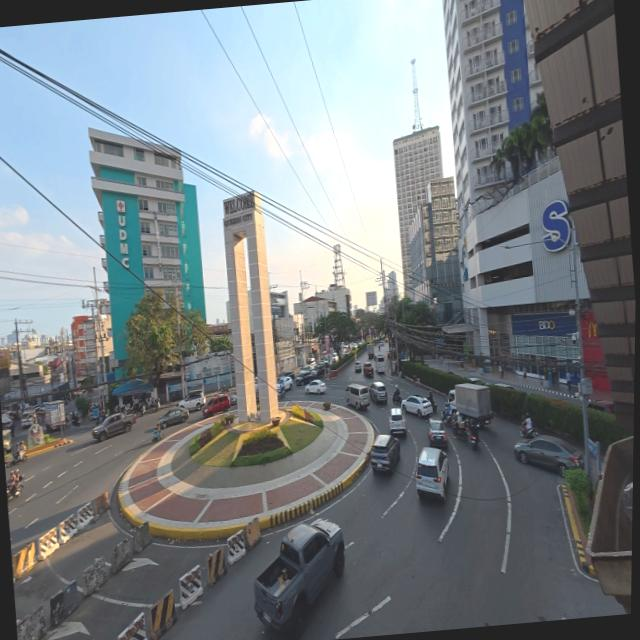bus: (377, 353, 386, 373)
car: (514, 436, 583, 475), (415, 448, 448, 501), (371, 435, 400, 471), (401, 395, 432, 417), (202, 394, 231, 417), (160, 408, 188, 429), (429, 419, 447, 449), (178, 391, 205, 411), (390, 408, 407, 435), (369, 381, 388, 402), (588, 400, 615, 414), (306, 380, 326, 394), (277, 376, 293, 391), (295, 371, 312, 385), (311, 363, 326, 378), (363, 362, 374, 377), (494, 383, 516, 390), (468, 377, 486, 385), (280, 371, 294, 380), (300, 364, 313, 373), (230, 394, 237, 406), (355, 361, 362, 372), (468, 377, 480, 383), (387, 351, 390, 358)
motorcycle: (4, 448, 28, 467), (7, 475, 23, 501), (453, 419, 468, 441), (520, 422, 538, 440), (130, 401, 146, 415), (441, 408, 454, 425), (151, 428, 164, 443), (147, 399, 160, 411), (469, 433, 478, 449), (71, 413, 81, 427), (392, 393, 402, 404), (431, 401, 437, 413)
trucks: (254, 519, 345, 635), (449, 383, 492, 424), (92, 413, 136, 441), (42, 400, 67, 431), (363, 362, 374, 378), (367, 344, 375, 359)
vans: (346, 384, 370, 410), (22, 411, 37, 427)
